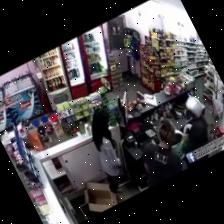person: (144, 119, 183, 186), (92, 108, 121, 193), (184, 96, 208, 153)
